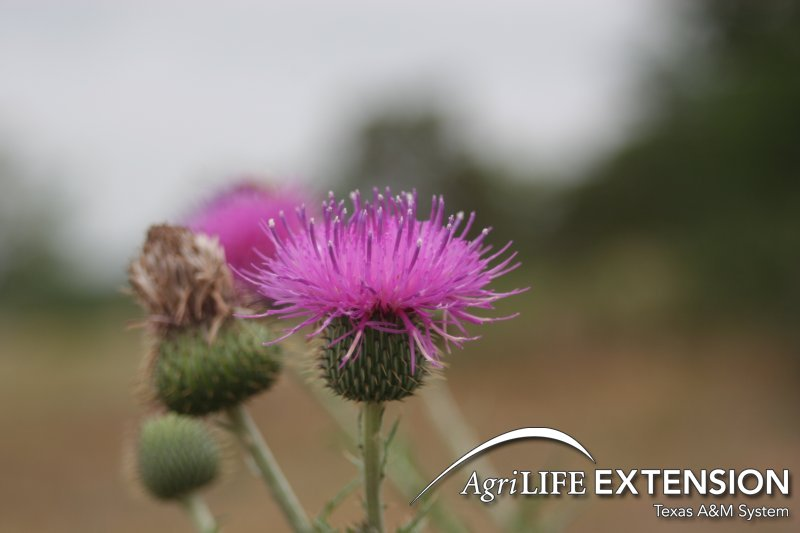thistle: (241, 197, 523, 402)
